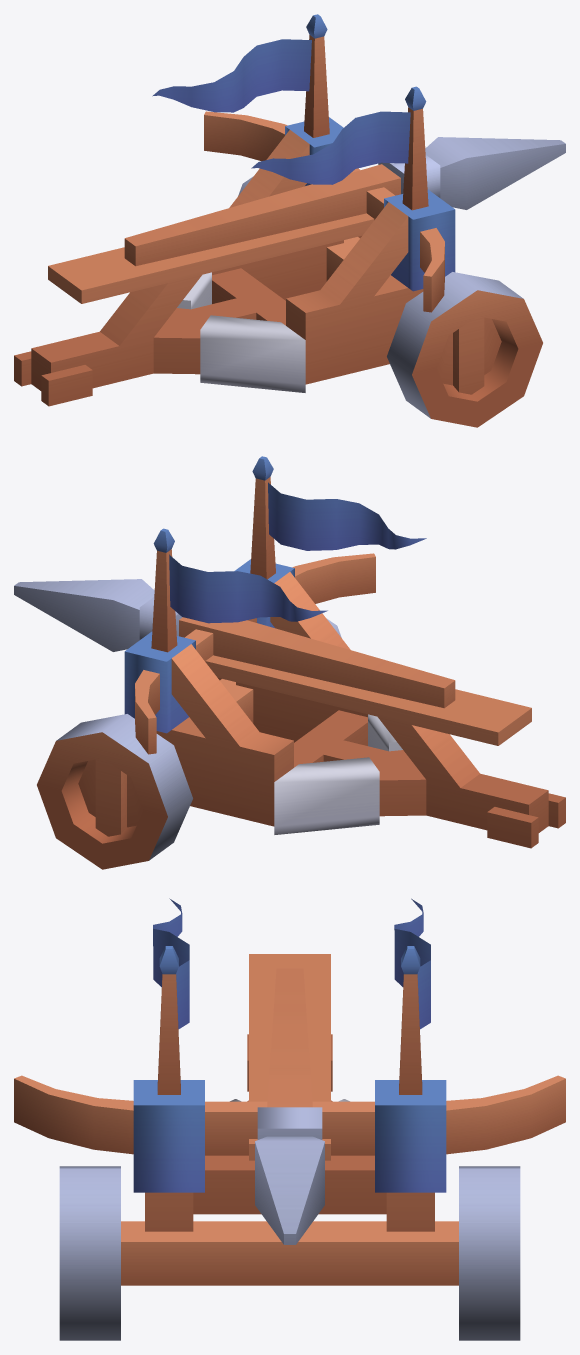
Rendered from siege-ballista.obj.
3 views of the same model, one above another, from view 1: azimuth 30°, elevation 25°; view 2: azimuth 150°, elevation 25°; view 3: azimuth 270°, elevation 25° (orthographic). The views are drawn at different scales.
Visible parts, largest first — view 1: siege-ballista, wheel, arrow; view 2: siege-ballista, wheel, arrow; view 3: siege-ballista, wheel, arrow.
Part boxes in pixels (<box>): siege-ballista: <box>14,14,455,406</box>; wheel: <box>238,176,542,427</box>; arrow: <box>124,137,565,266</box>; siege-ballista: <box>124,456,565,848</box>; wheel: <box>37,618,341,869</box>; arrow: <box>14,579,455,708</box>; siege-ballista: <box>14,898,565,1285</box>; wheel: <box>59,1166,520,1340</box>; arrow: <box>255,968,324,1244</box>.
Bounding box in the file's own units: 1.63 × 0.9103 × 1.2.
Materials: 1 (1 with a texture image).
